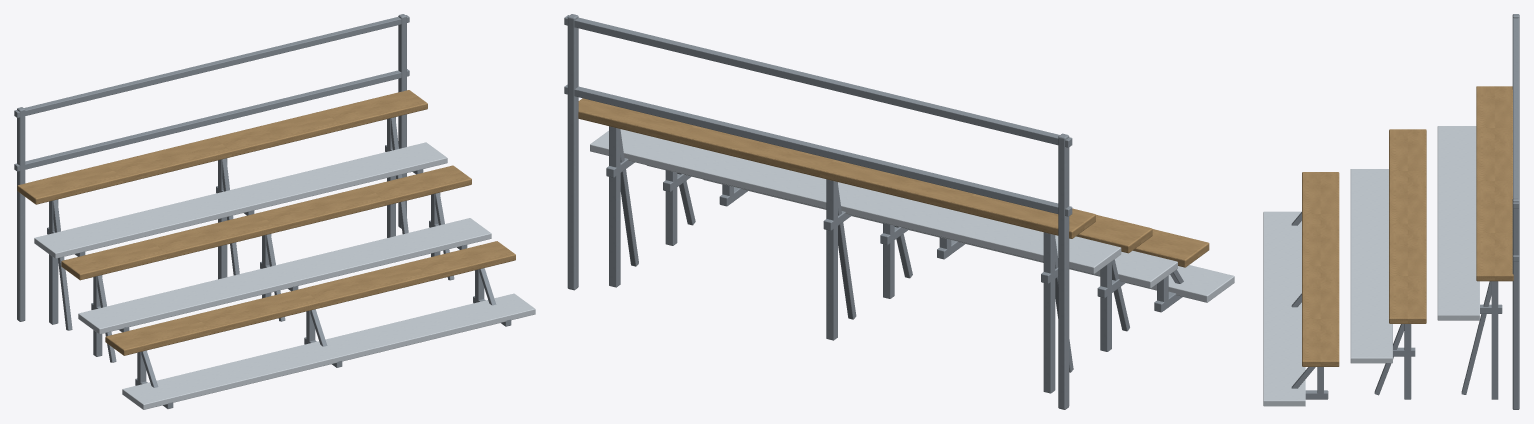
Rendered from spectator_bleachers.dae.
The picture shows the model from 3 angles, left to right: view 1: azimuth 30°, elevation 25°; view 2: azimuth 150°, elevation 25°; view 3: azimuth 270°, elevation 25°; orthographic projection. The views are drawn at different scales.
Parts seen in each view (by area): view 1: Row footboard.002, Row footboard.001, Row footboard, Bleacher seat.001, Bleacher seat.002, Bleacher seat, Rear guardrail, Rear guardrail.001, Rear safety post, Rear safety post.001, Row supporting post.006, Row diagonal support.006 (+3 smaller); view 2: Row footboard.002, Bleacher seat.002, Rear guardrail.001, Rear guardrail, Rear safety post.001, Rear safety post, Row footboard.001, Row footboard, Row supporting post.006, Row supporting post.007, Row supporting post.008, Bleacher seat (+6 smaller); view 3: Row footboard.002, Row footboard.001, Row footboard, Bleacher seat.001, Bleacher seat, Bleacher seat.002, Rear safety post.001, Rear guardrail.001, Row supporting post.008, Row diagonal support.008, Row supporting post.005, Row diagonal support.005 (+1 smaller).
Part boxes in pixels (x1,y1,x2,y2): Row footboard.002: [34, 142, 447, 258]; Row footboard.001: [78, 218, 491, 334]; Row footboard: [122, 293, 535, 409]; Bleacher seat.001: [61, 165, 471, 280]; Bleacher seat.002: [17, 90, 427, 204]; Bleacher seat: [105, 241, 515, 355]; Rear guardrail: [14, 69, 409, 171]; Rear guardrail.001: [14, 15, 409, 117]; Rear safety post: [17, 107, 25, 321]; Rear safety post.001: [398, 14, 406, 228]; Row supporting post.006: [49, 199, 58, 324]; Row diagonal support.006: [53, 199, 72, 330]; Row footboard.002: [590, 129, 1121, 274]; Bleacher seat.002: [578, 98, 1095, 238]; Rear guardrail.001: [564, 15, 1072, 147]; Rear guardrail: [564, 84, 1072, 216]; Rear safety post.001: [567, 14, 578, 290]; Rear safety post: [1058, 133, 1069, 409]; Row footboard.001: [647, 165, 1177, 288]; Row footboard: [703, 179, 1234, 302]; Row supporting post.006: [1043, 232, 1055, 393]; Row supporting post.007: [826, 179, 837, 340]; Row supporting post.008: [609, 126, 620, 287]; Bleacher seat: [1133, 229, 1209, 267]; Row footboard.002: [1437, 126, 1479, 320]; Row footboard.001: [1350, 169, 1392, 363]; Row footboard: [1263, 211, 1305, 406]; Bleacher seat.001: [1389, 129, 1426, 323]; Bleacher seat: [1302, 172, 1339, 366]; Bleacher seat.002: [1476, 86, 1513, 281]; Rear safety post.001: [1512, 198, 1519, 409]; Rear guardrail.001: [1513, 18, 1519, 208]; Row supporting post.008: [1491, 281, 1498, 399]; Row diagonal support.008: [1461, 281, 1491, 394]; Row supporting post.005: [1404, 324, 1411, 399]; Row diagonal support.005: [1374, 324, 1404, 395].
Bounding box in the file's own units: 3.6 × 2.06 × 1.86.
3 materials, 3 textured.
